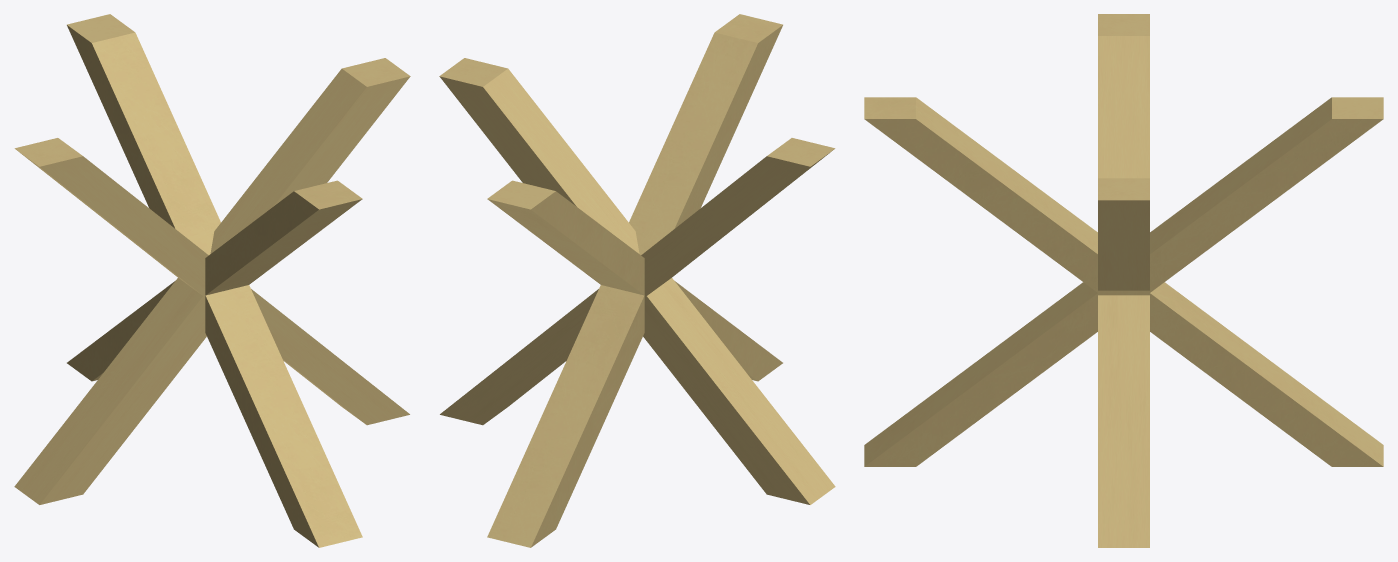
The model's file is cross_legs_gold_metal.glb.
The picture shows the model from 3 angles, left to right: view 1: azimuth 30°, elevation 25°; view 2: azimuth 150°, elevation 25°; view 3: azimuth 270°, elevation 25°; orthographic projection. The views are drawn at different scales.
Visible parts, largest first — view 1: Box001, Box004, Box003, Box002; view 2: Box002, Box004, Box003, Box001; view 3: Box002, Box001, Box003, Box004.
Boxes of the visible parts, x1=… form: Box001: x1=67, y1=14, x2=362, y2=547; Box004: x1=14, y1=58, x2=410, y2=504; Box003: x1=14, y1=138, x2=409, y2=425; Box002: x1=67, y1=180, x2=362, y2=381; Box002: x1=487, y1=14, x2=782, y2=547; Box004: x1=439, y1=58, x2=835, y2=504; Box003: x1=440, y1=138, x2=835, y2=425; Box001: x1=487, y1=180, x2=782, y2=381; Box002: x1=864, y1=97, x2=1383, y2=466; Box001: x1=864, y1=97, x2=1383, y2=466; Box003: x1=1098, y1=14, x2=1149, y2=547; Box004: x1=1098, y1=178, x2=1149, y2=290.
Size of the model in its own units: 0.8495 by 0.74 by 1.
1 material, 1 textured.
